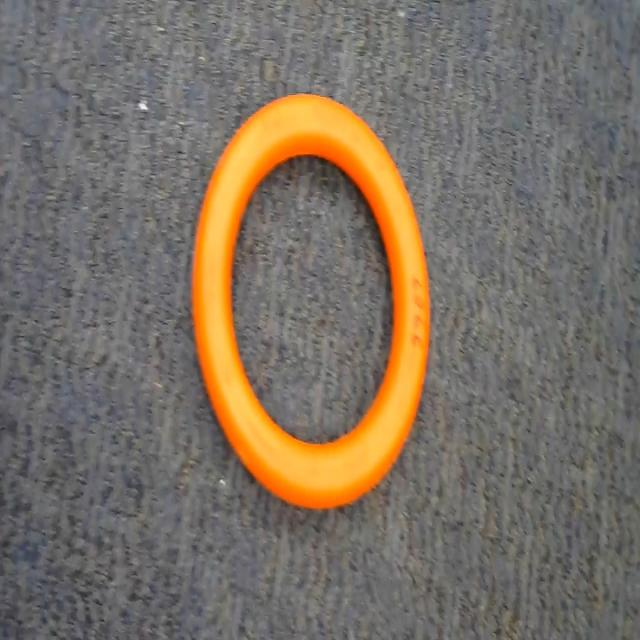note: (186, 77, 447, 518)
